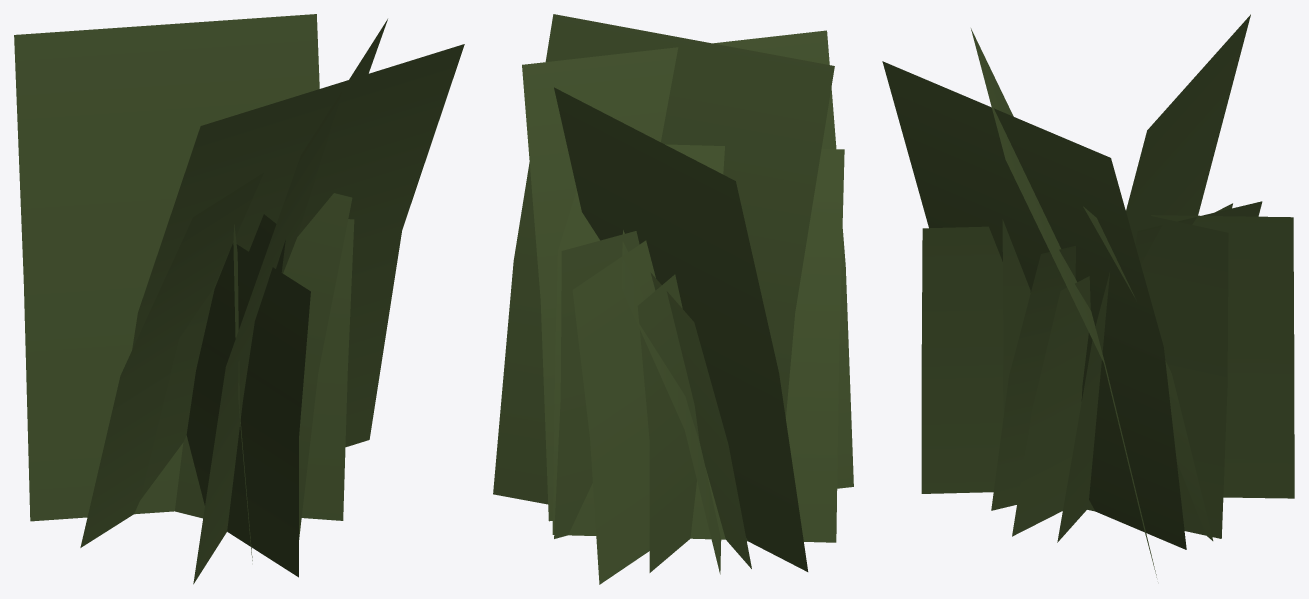
The model's file is grass_clump.glb.
3 views of the same model, side by side, from view 1: azimuth 30°, elevation 25°; view 2: azimuth 150°, elevation 25°; view 3: azimuth 270°, elevation 25° (orthographic). The views are drawn at different scales.
Parts seen in each view (by area): view 1: grass_clump; view 2: grass_clump; view 3: grass_clump.
Boxes of the visible parts, <box> form: grass_clump: <box>14,14,464,584</box>; grass_clump: <box>493,14,853,584</box>; grass_clump: <box>882,14,1294,577</box>.
Size of the model in its own units: 0.6121 by 0.746 by 0.6442.
